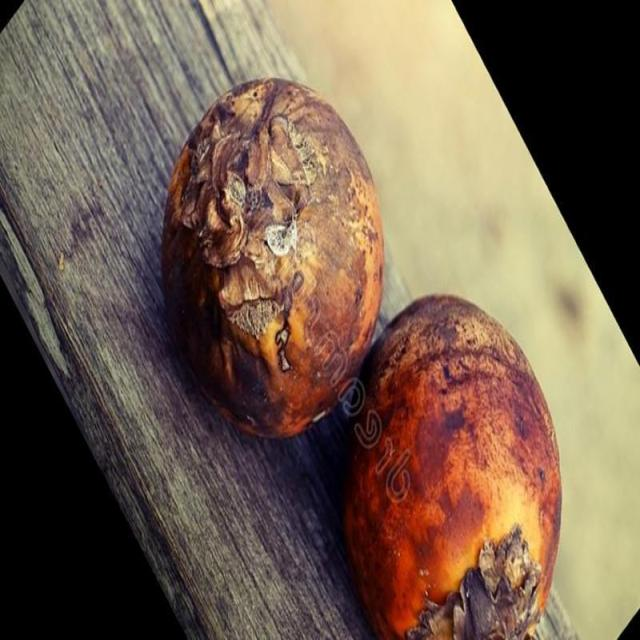damaged: (158, 79, 387, 441), (340, 294, 563, 639)
